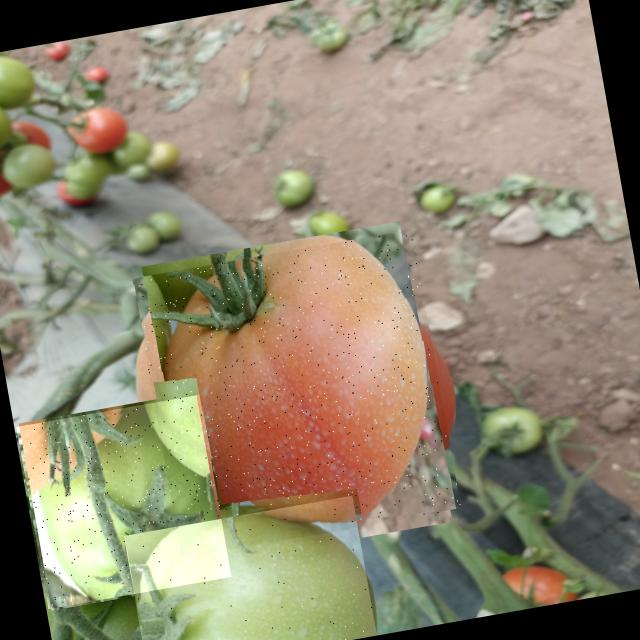Ripe Tomato: (132, 229, 460, 558)
Unripe Tomato: (16, 394, 231, 609), (123, 495, 376, 640)
